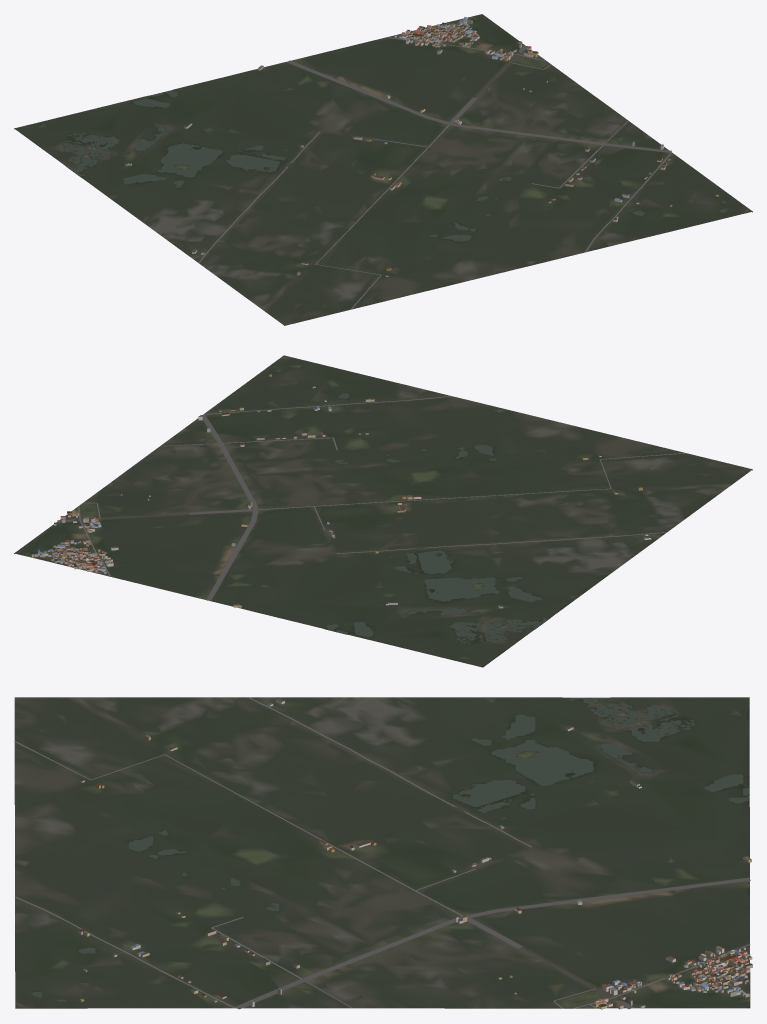
3 views of the same model, one above another, from view 1: azimuth 30°, elevation 25°; view 2: azimuth 150°, elevation 25°; view 3: azimuth 270°, elevation 25° (orthographic). The views are drawn at different scales.
Parts seen in each view (by area): view 1: ground, water, roads, buildings; view 2: ground, water, roads, buildings; view 3: ground, water, roads, buildings.
Boxes of the visible parts, box(x1,y1,x2,y2) form: ground: box(14, 14, 752, 325); water: box(57, 62, 727, 241); roads: box(198, 22, 671, 309); buildings: box(125, 17, 718, 276); ground: box(14, 355, 752, 667); water: box(84, 365, 548, 644); roads: box(41, 396, 686, 600); buildings: box(31, 374, 651, 608); ground: box(14, 697, 750, 1008); water: box(32, 697, 749, 1005); roads: box(14, 697, 750, 1009); buildings: box(78, 698, 752, 1009).
Bounding box in the file's own units: 1409 × 14.01 × 1409.
